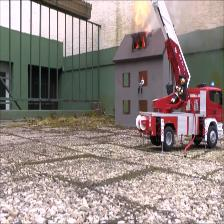fire: (131, 2, 147, 26)
